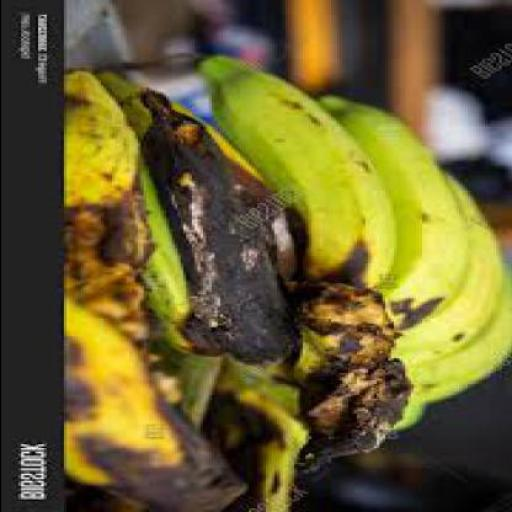biodegradable: (199, 56, 398, 298), (68, 283, 251, 511), (96, 73, 236, 359), (321, 97, 469, 342), (173, 104, 296, 371), (63, 71, 156, 378), (290, 286, 415, 481), (386, 174, 504, 369), (404, 250, 510, 411), (220, 367, 319, 511), (136, 342, 228, 435), (404, 406, 510, 440)
